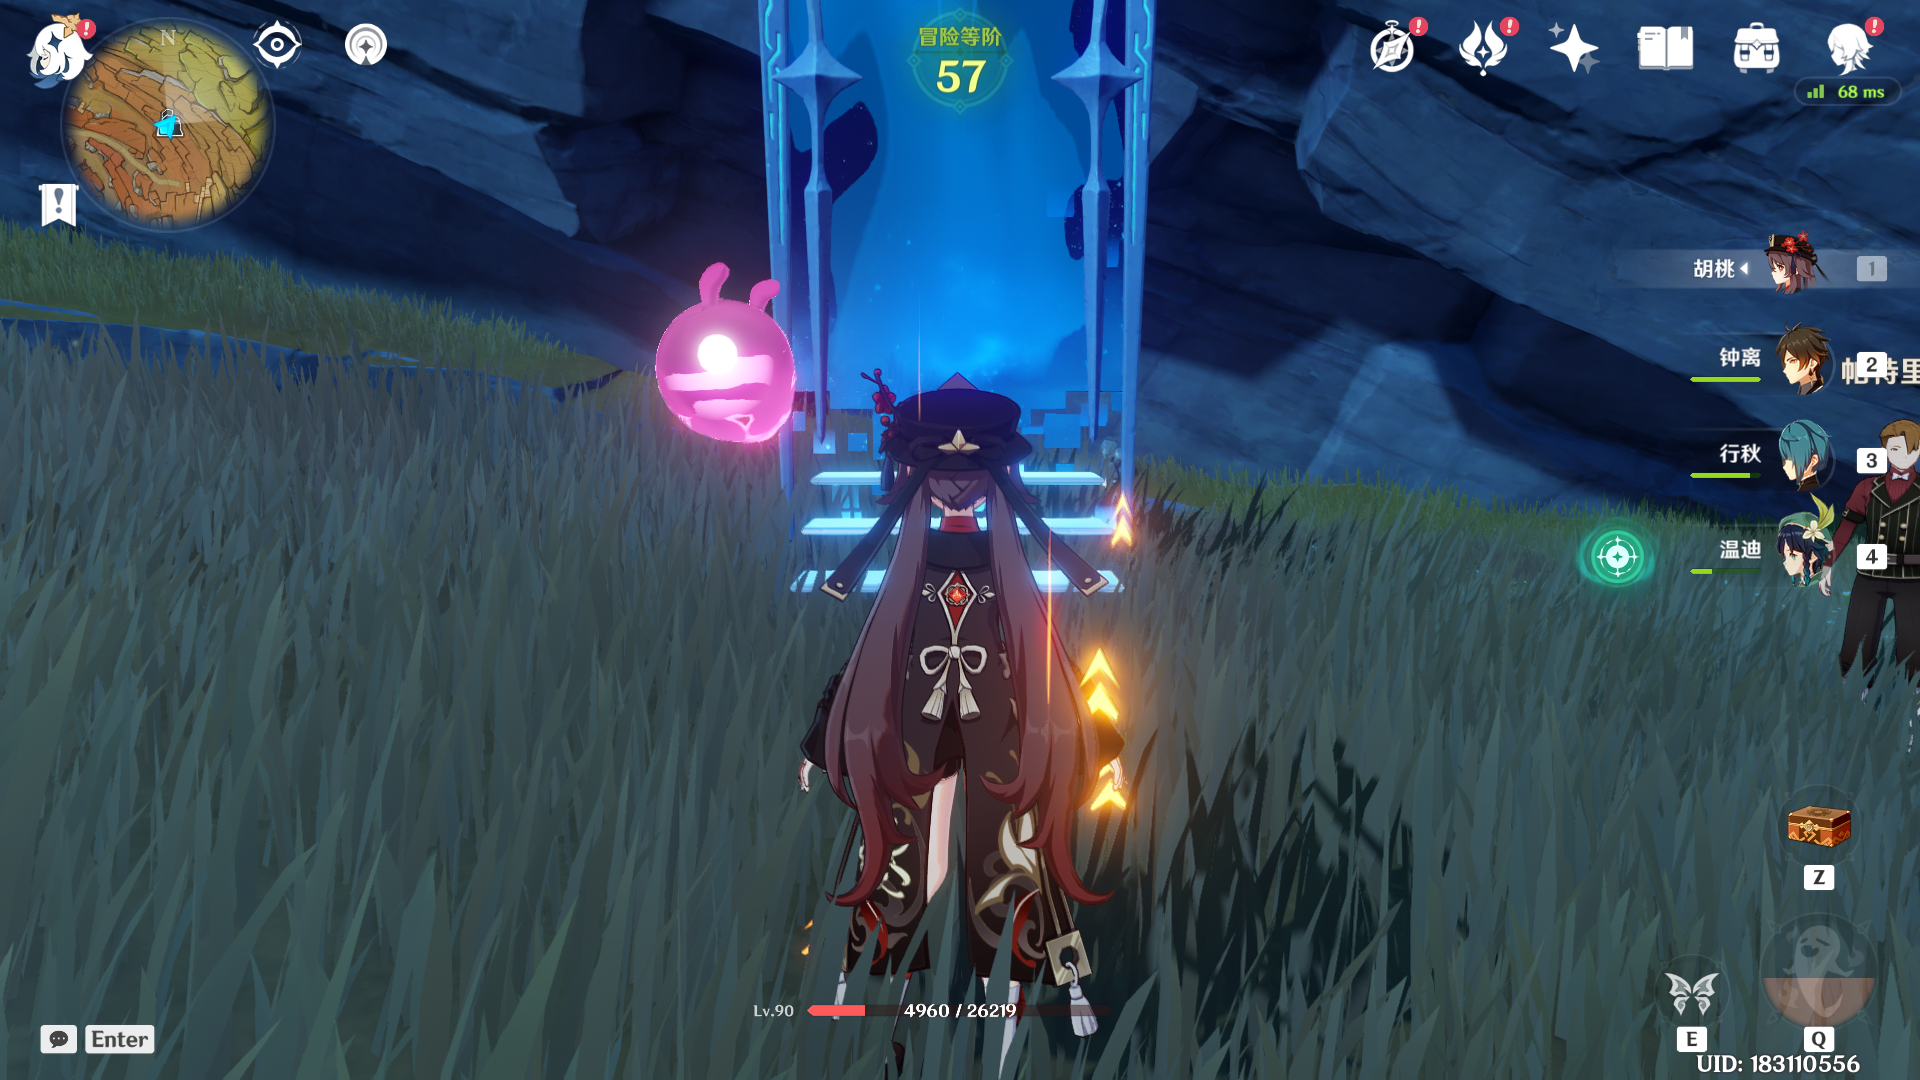character: (713, 345, 1179, 1080)
